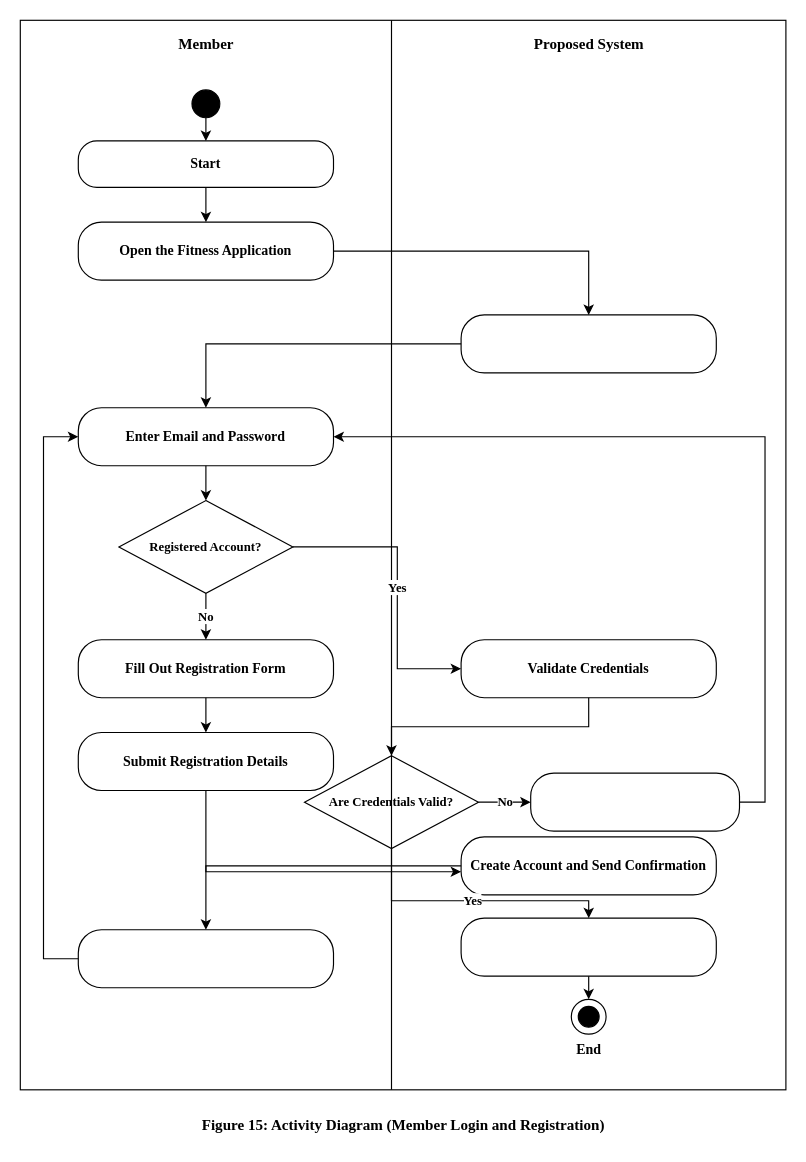
The diagram is 806 pixels wide and 1162 high, and some of its shapes have lost their labels. The centre of each missing label's shape, as x and y in pixels:
Display Error Message: point 635,801
Display Login Form: point 588,343
Display Member Dashboard: point 588,946
Receive Account Confirmation: point 205,958
